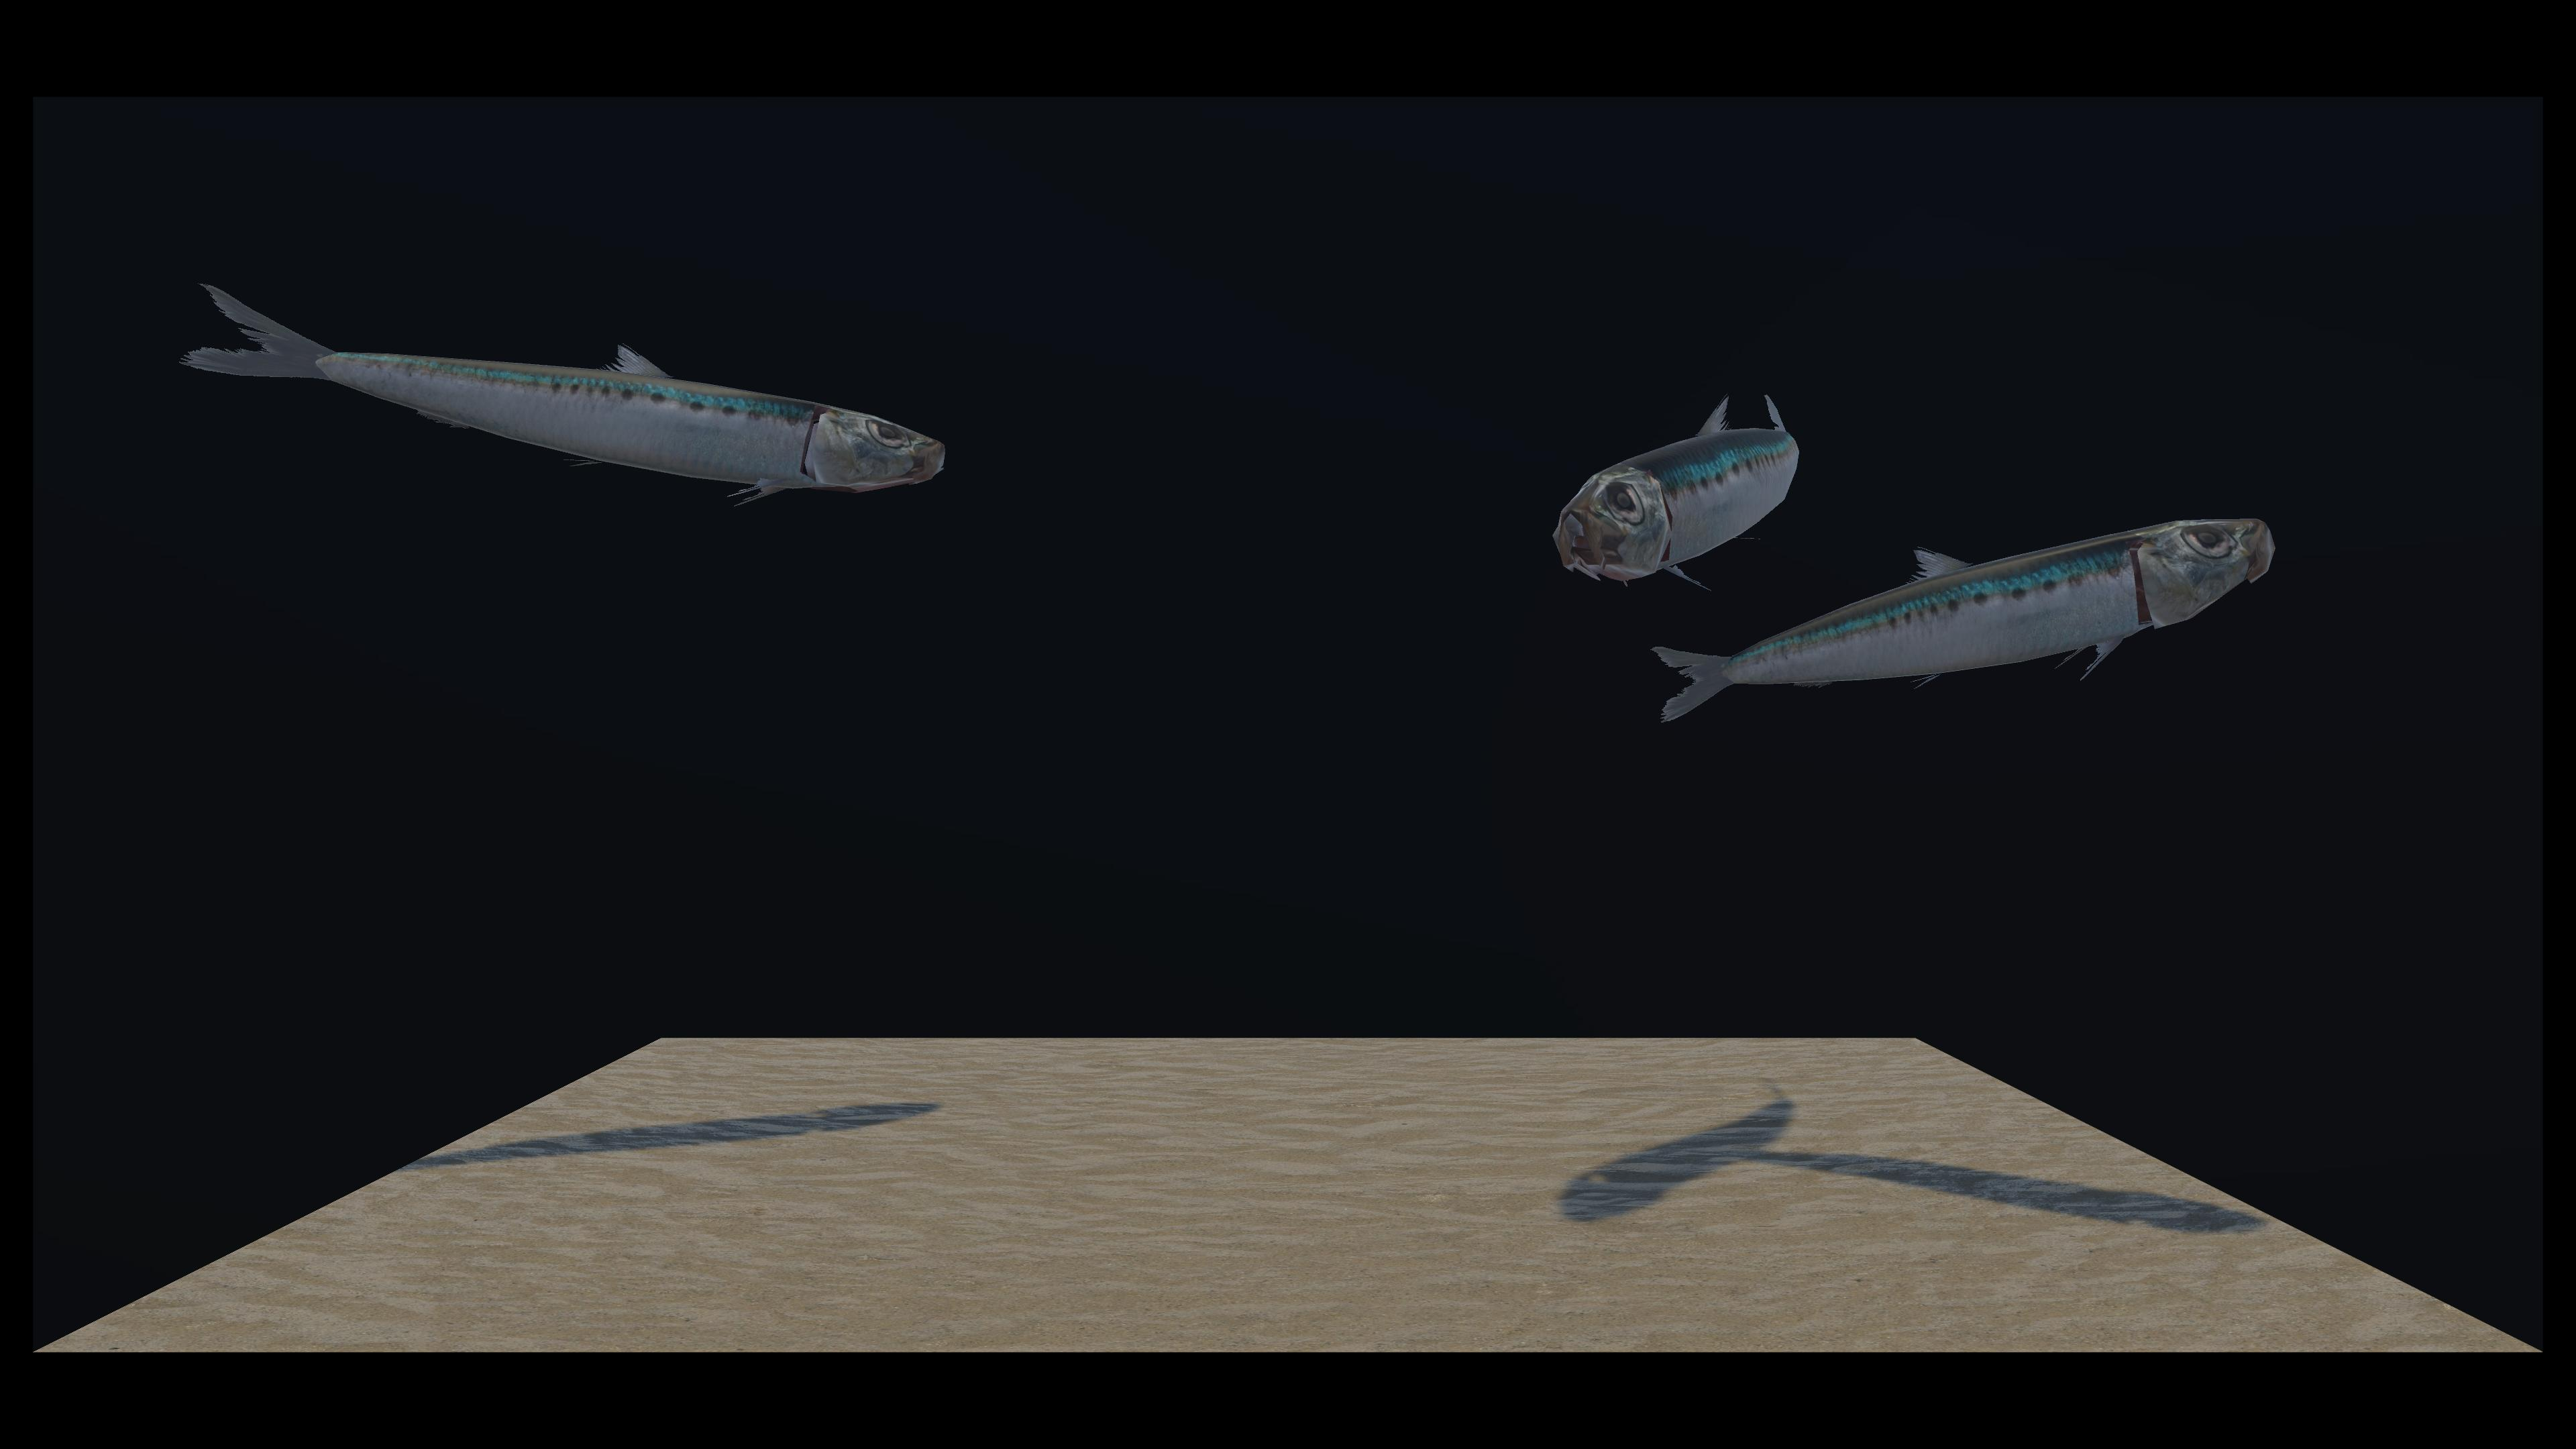Sardine_Front: (948, 460, 2254, 722), (862, 395, 1821, 596), (200, 285, 1003, 517)
